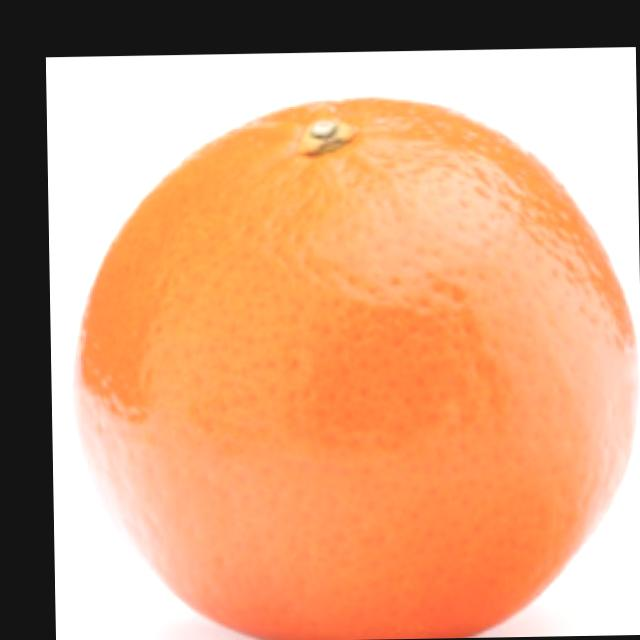orange: (66, 79, 640, 640)
